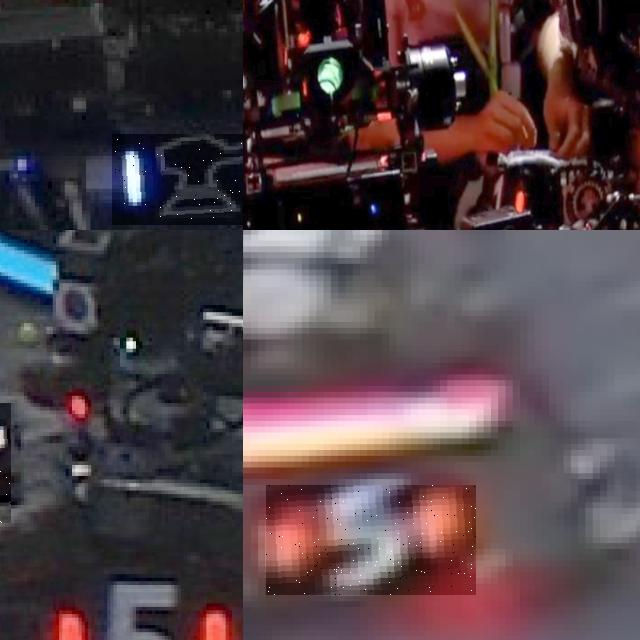Bs: (111, 134, 243, 225)
R5: (266, 485, 476, 595), (40, 568, 241, 640)
